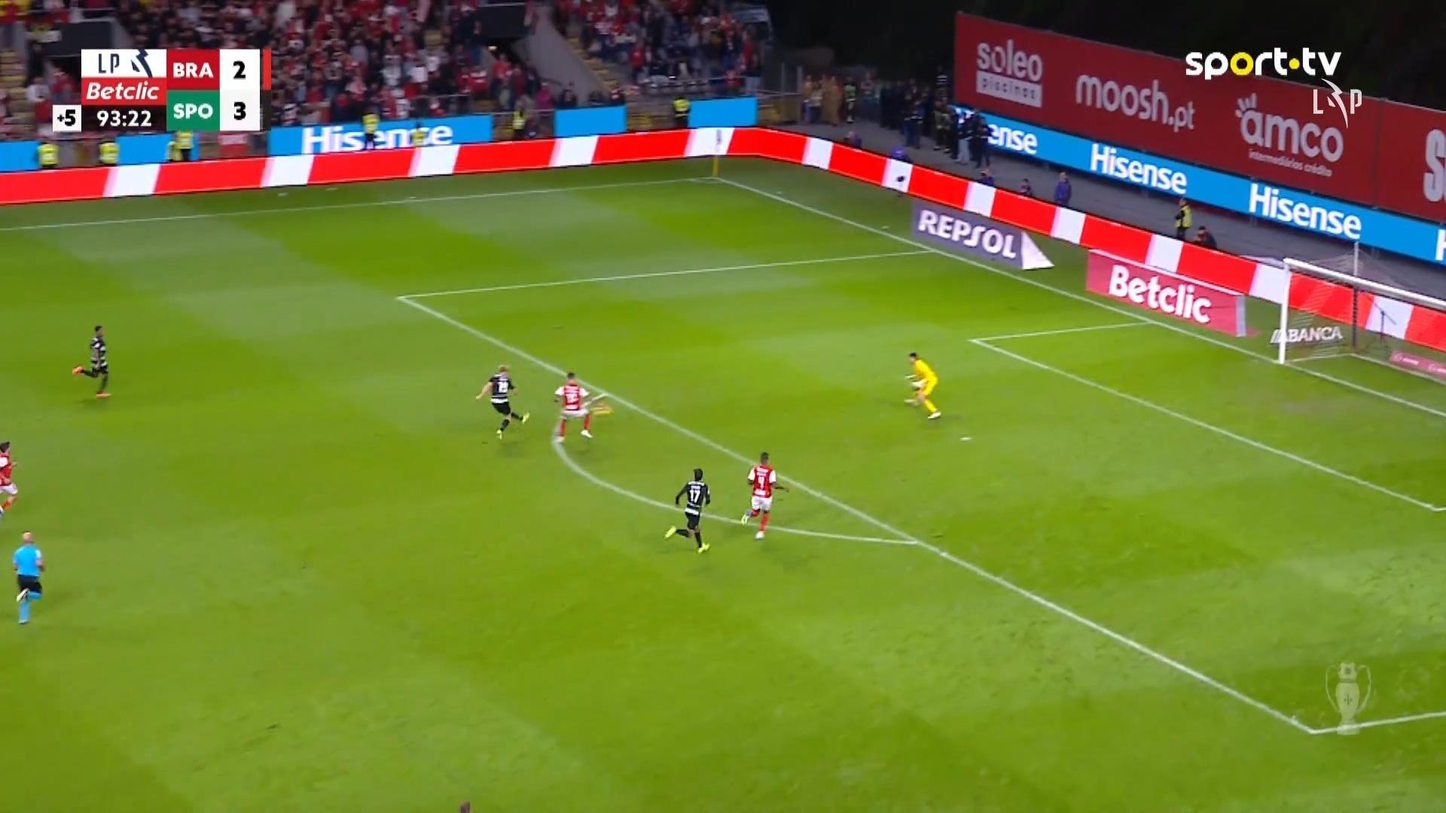ball: (593, 404, 612, 416)
goalkeeper: (902, 350, 941, 419)
player: (474, 364, 529, 440), (663, 466, 711, 553), (739, 451, 786, 539), (552, 370, 593, 443), (71, 324, 111, 397), (0, 440, 19, 517)
referee: (11, 531, 46, 624)
